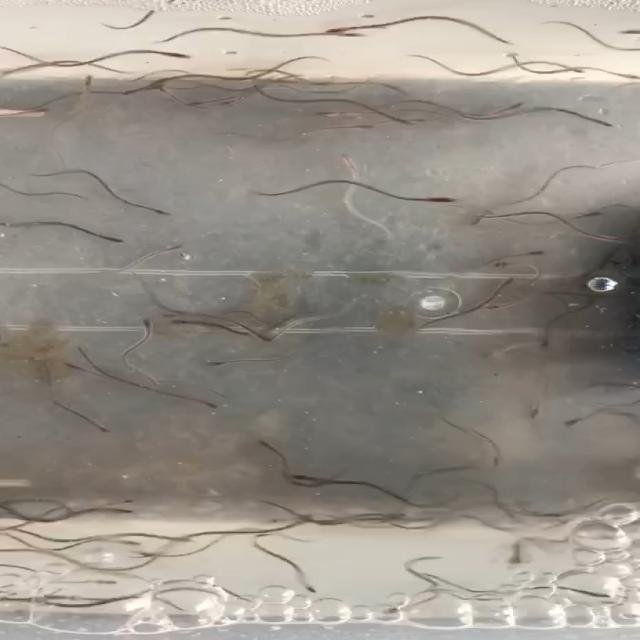active_glass_eel: (146, 42, 195, 59), (0, 103, 52, 117), (500, 547, 532, 569), (142, 204, 184, 220), (418, 190, 464, 204), (74, 72, 100, 95), (381, 600, 418, 616), (89, 230, 128, 244), (595, 593, 634, 607), (156, 241, 188, 257), (322, 22, 358, 36), (485, 298, 517, 313), (134, 316, 166, 331), (515, 246, 549, 260), (104, 504, 143, 516), (110, 533, 139, 549), (254, 437, 279, 455), (122, 80, 147, 97), (594, 235, 629, 247), (614, 70, 640, 86), (494, 259, 526, 272), (575, 208, 609, 220), (561, 414, 588, 429), (335, 30, 373, 40), (57, 361, 86, 374), (560, 61, 585, 76), (84, 578, 121, 588), (335, 152, 358, 168), (254, 332, 278, 346), (194, 400, 222, 412), (109, 495, 137, 507), (152, 84, 174, 99), (213, 95, 238, 108), (615, 25, 640, 38), (90, 422, 113, 436), (532, 334, 552, 350), (320, 107, 349, 118), (298, 582, 319, 597), (526, 406, 546, 421), (591, 118, 615, 130), (290, 473, 314, 485), (506, 99, 526, 113), (492, 454, 512, 468), (348, 123, 382, 131), (408, 117, 438, 126), (189, 99, 213, 109), (205, 358, 231, 367), (110, 566, 114, 568)
